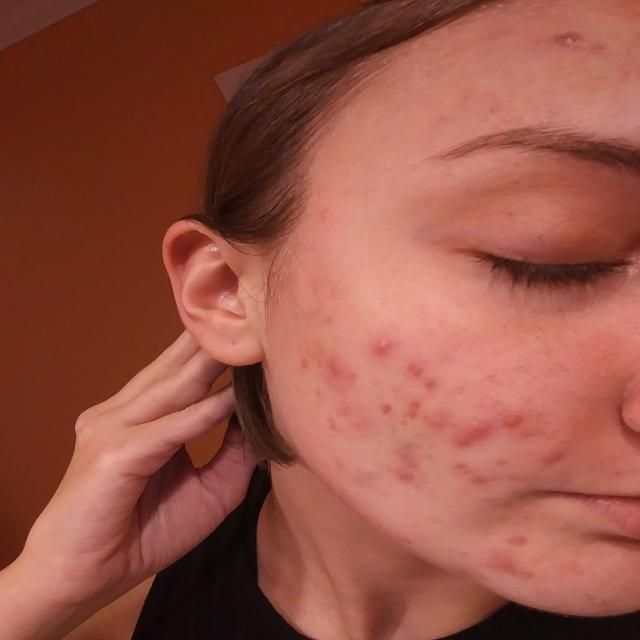Acne: (310, 327, 525, 475)
